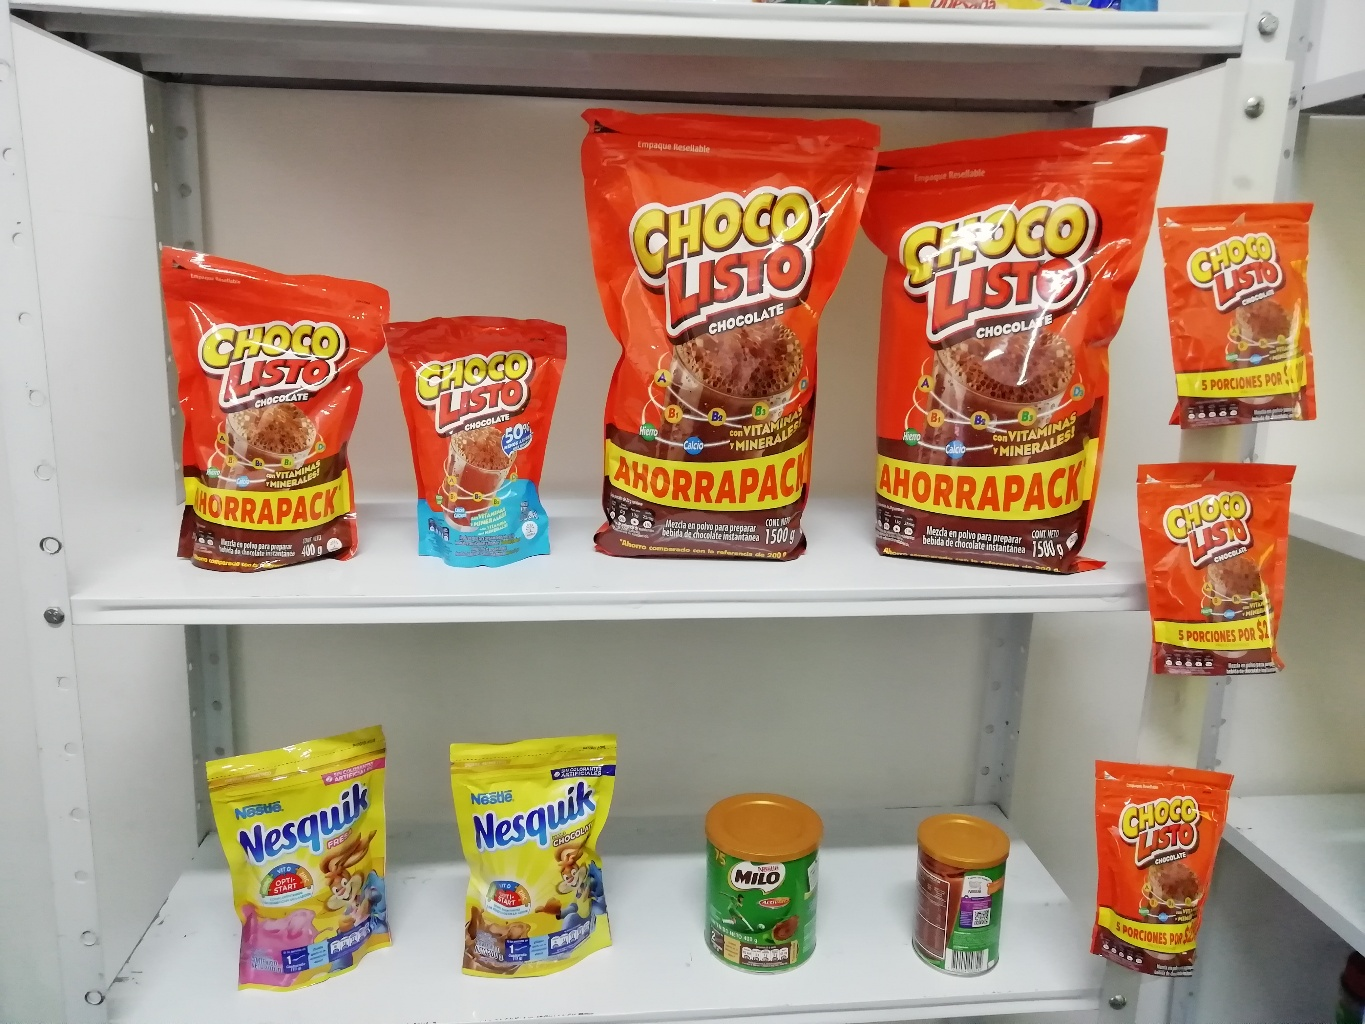COL0170103DYP1,500: (850, 117, 1181, 597)
COL0170103DYP10000: (1081, 748, 1240, 1001)
COL0170103DYP40000: (136, 232, 397, 589)
COL0170104DYP20000: (372, 299, 587, 585)
COL0170203LAT20000: (895, 801, 1026, 1001)
COL0170203LAT40000: (685, 783, 842, 981)
COL0170303DYP20000: (430, 723, 638, 991)
COL0170305DYP20000: (193, 719, 415, 1007)
